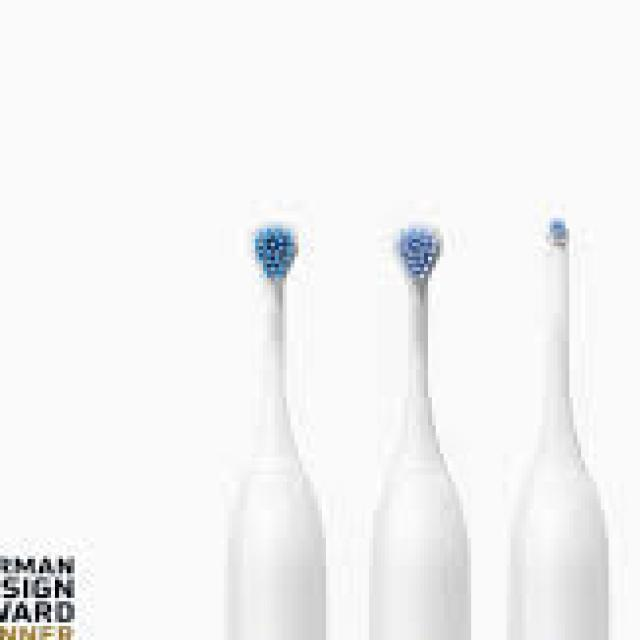organic: (226, 197, 609, 625)
